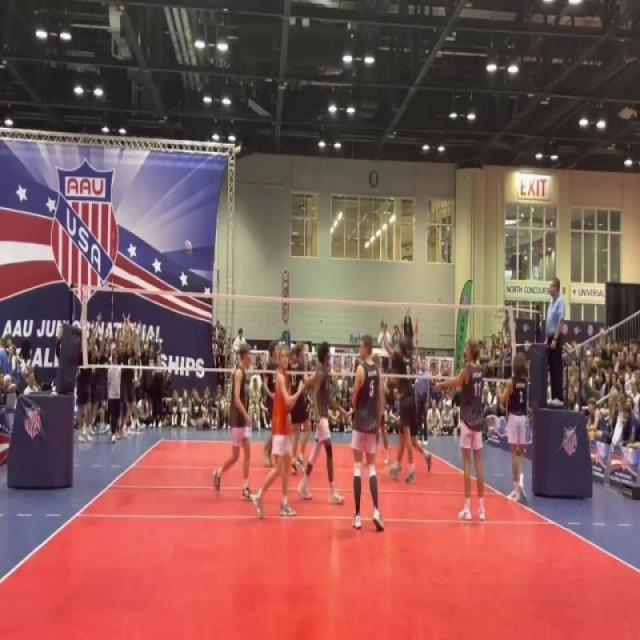volleyball: (182, 239, 194, 255)
